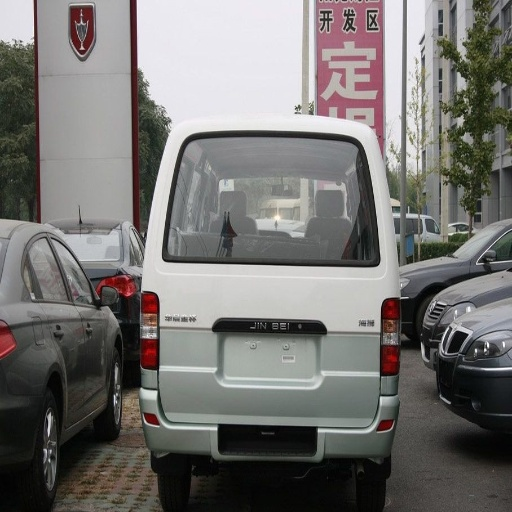back_bumper: (143, 376, 397, 462)
back_right_door: (23, 234, 82, 422)
back_right_light: (381, 298, 402, 377)
tailgate: (241, 265, 322, 339), (251, 341, 298, 378)
trunk: (158, 265, 386, 415)
